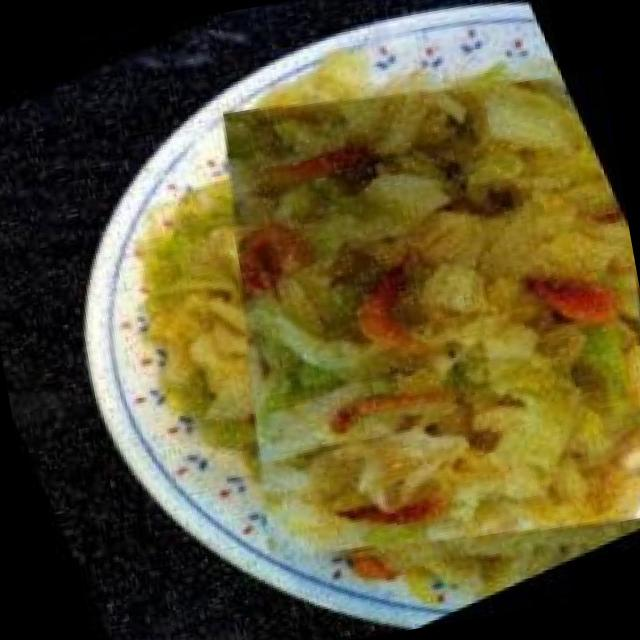chinese_cabbage: (75, 0, 640, 640)
